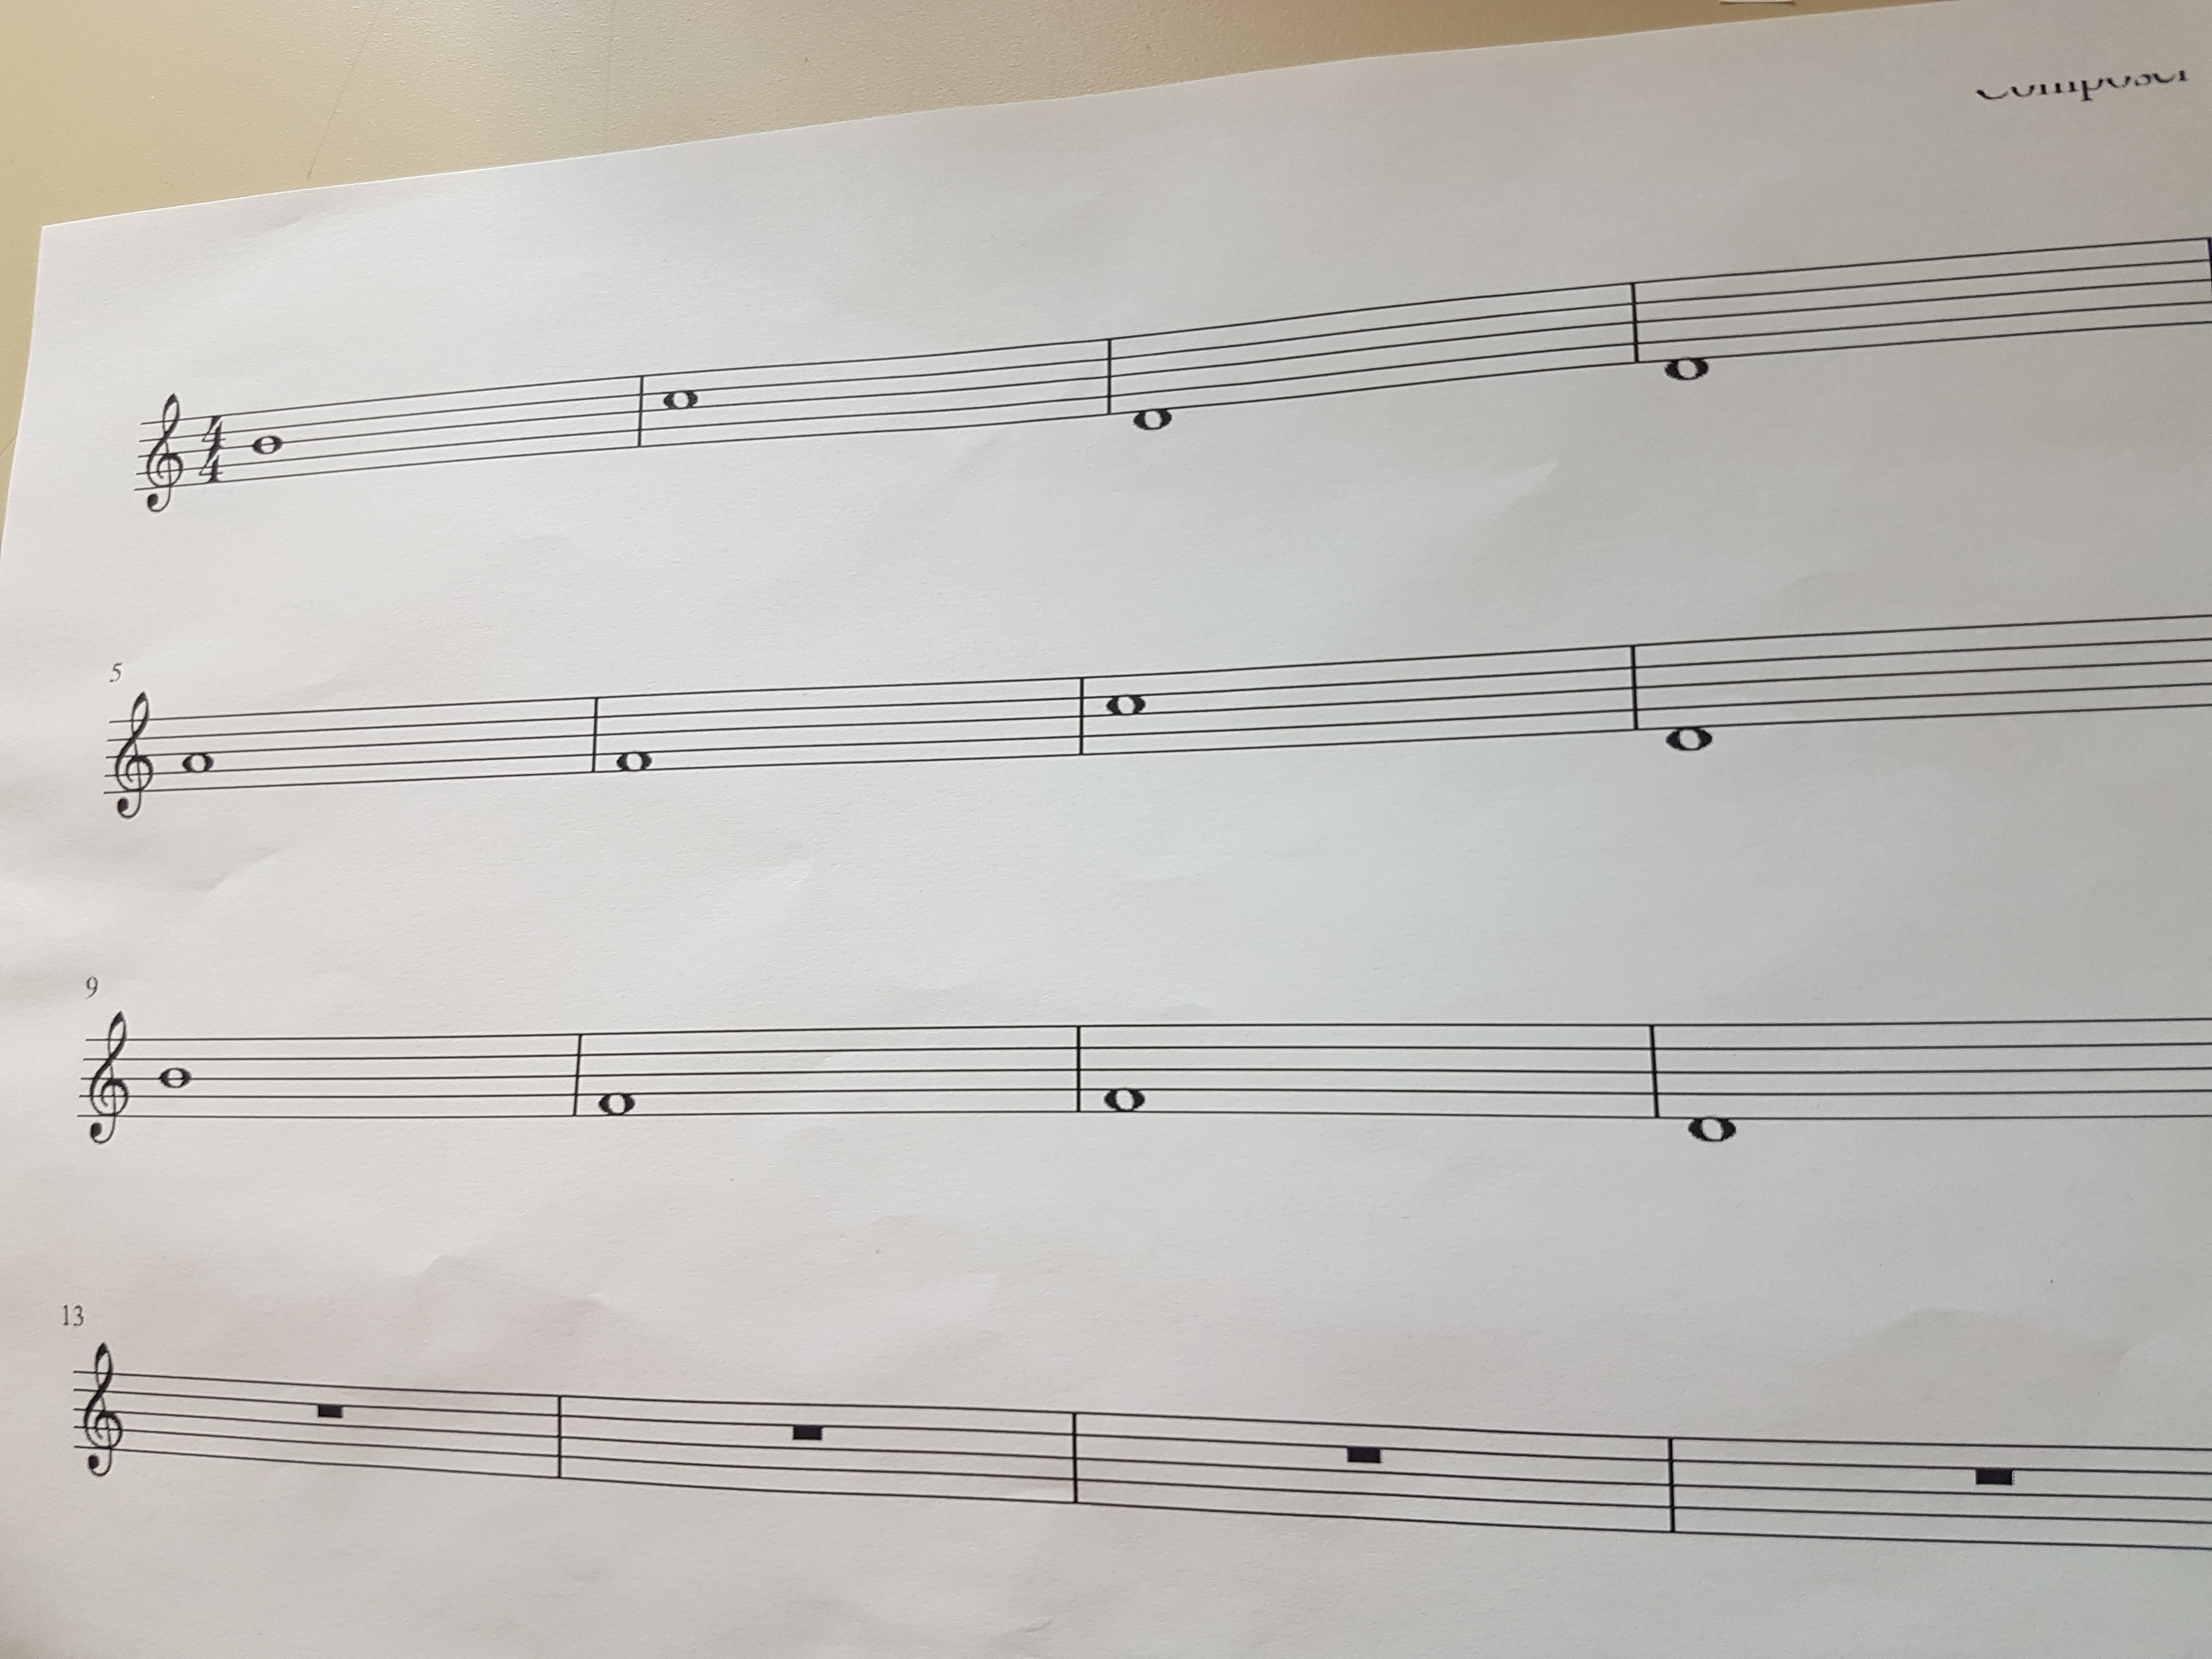key: (75, 1331, 131, 1488), (82, 1002, 134, 1157), (105, 683, 158, 831), (136, 385, 188, 528)
pipe: (1635, 1002, 1670, 1133), (1656, 1420, 1688, 1547), (1061, 1004, 1090, 1131), (1620, 627, 1649, 751), (1061, 1392, 1089, 1523), (1618, 261, 1648, 380), (559, 1014, 587, 1134), (543, 1384, 571, 1495), (1068, 655, 1094, 772), (580, 680, 606, 789), (1096, 324, 1120, 425), (629, 362, 650, 462)
semibreve_a: (178, 694, 221, 816)
semibreve_c: (1101, 648, 1151, 774), (658, 347, 702, 460)
semibreve_d: (1683, 1002, 1745, 1173), (1662, 615, 1719, 774), (1655, 258, 1717, 401), (1127, 310, 1177, 458)
semibreve_f: (1097, 999, 1150, 1145), (610, 676, 655, 796), (597, 1007, 636, 1143)
semibreve_h: (157, 1011, 195, 1138), (246, 390, 287, 500)
